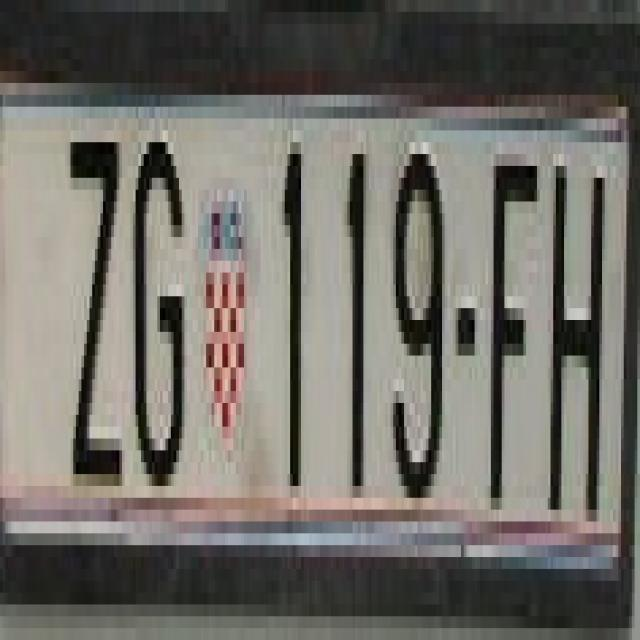1: (333, 130, 369, 498)
9: (388, 118, 442, 510)
F: (491, 130, 540, 498)
G: (136, 130, 192, 498)
H: (545, 142, 605, 522)
Z: (65, 106, 128, 486)
